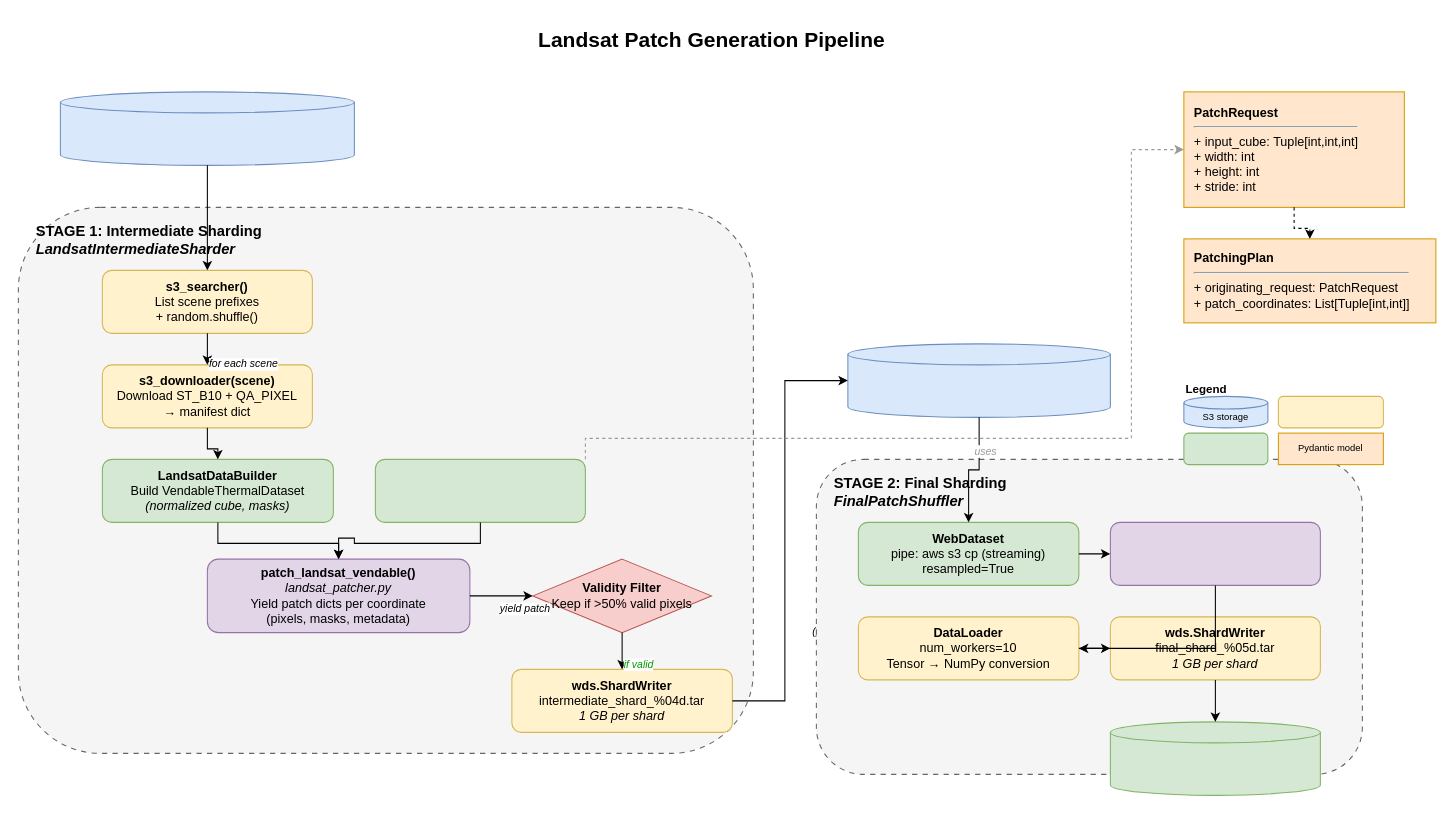
This 1454x814 diagram has some shape labels left out. The shapes that lost their labels are listed below. From the top down, each one's centre as x and y in pixels, then its label:
At (206,128): "S3: allotrope-raw-data-india/landsat/ (Raw Landsat scenes: ST_B10 + QA_PIXEL)".
At (978,380): "S3: patches/intermediate/ intermediate_shard_XXXX.tar".
At (1330,411): "Processing step".
At (1225,448): "Data transform".
At (479,490): "PatchPlanGenerator Sliding window grid 128×128 px, stride 64".
At (1214,553): ".shuffle(buffer=10) Cross-scene mixing".
At (1214,758): "S3: patches/final/ final_shard_XXXXX.tar ML-Ready".
